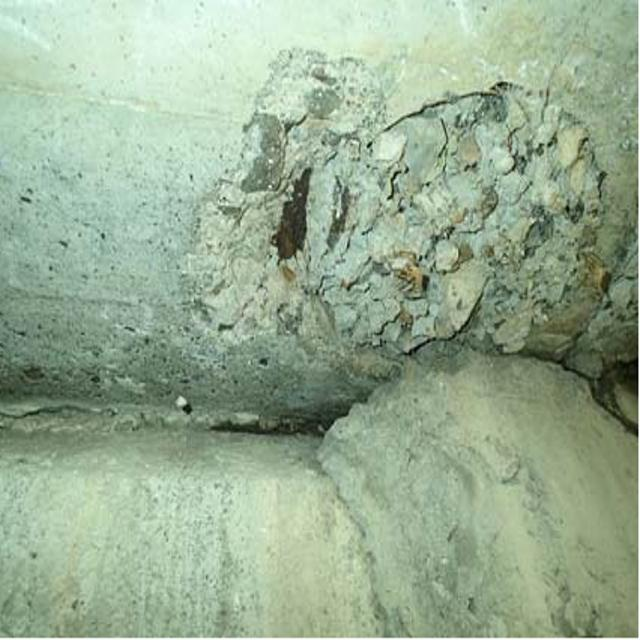spalling: (186, 41, 624, 382)
